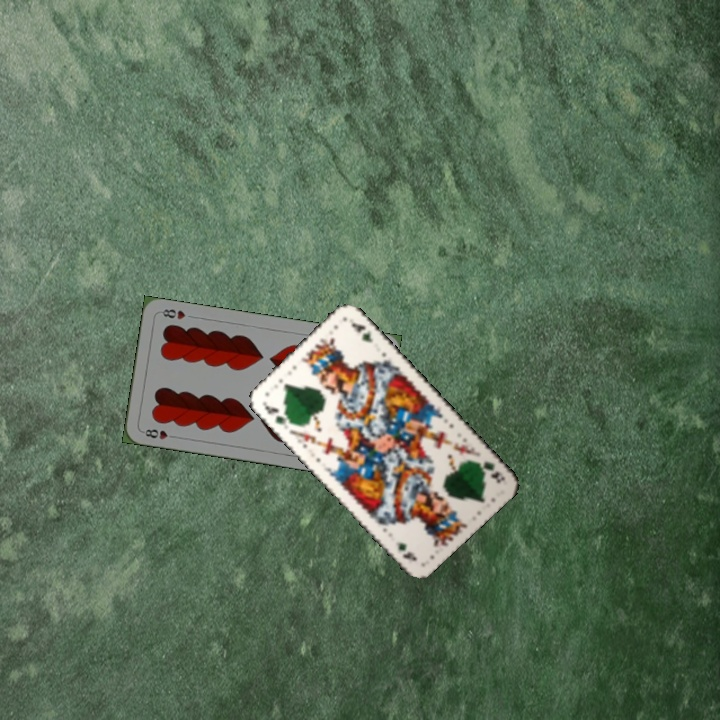GK: (257, 397, 293, 428), (471, 456, 507, 486)
H8: (138, 425, 179, 442)
